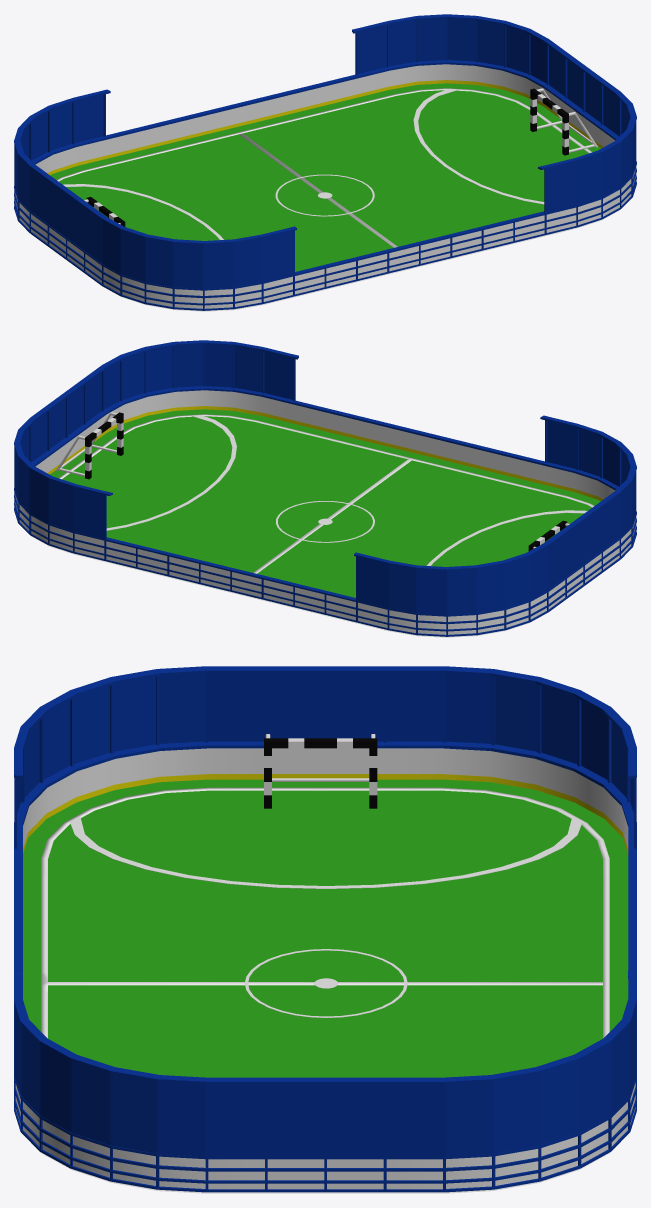
3 renders of one model, top to bottom at view 1: azimuth 30°, elevation 25°; view 2: azimuth 150°, elevation 25°; view 3: azimuth 270°, elevation 25°, orthographic. The views are drawn at different scales.
Parts seen in each view (by area): view 1: object 1, object 2, Cube.004, Cube.007; view 2: object 1, object 2, Cube.004, Cube.007; view 3: object 2, object 1, Cube.009, Cube.008.
Boxes of the visible parts, x1,y1,x2,y2 form: object 1: (14, 14, 636, 311); object 2: (50, 83, 600, 271); Cube.004: (530, 88, 597, 152); Cube.007: (530, 88, 568, 155); object 1: (14, 340, 636, 637); object 2: (50, 409, 600, 597); Cube.004: (56, 412, 123, 476); Cube.007: (85, 412, 123, 479); object 2: (23, 779, 628, 1077); object 1: (14, 666, 636, 1193); Cube.009: (264, 738, 377, 808); Cube.008: (264, 734, 377, 795).
Bounding box in the file's own units: 30.13 × 3.82 × 19.08.
